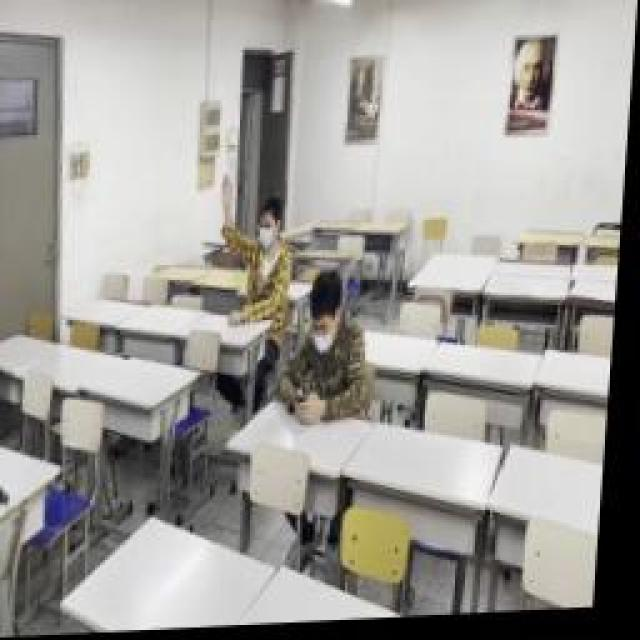phone: (285, 270, 380, 428)
study: (218, 170, 300, 328)
